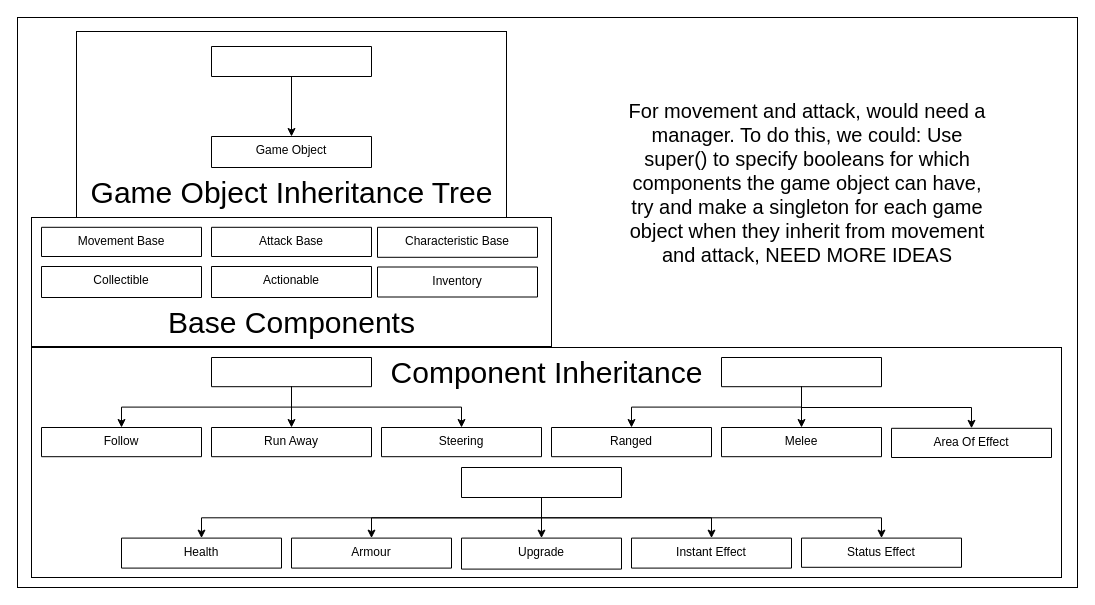
This 1095x605 diagram has some shape labels left out. The shapes that lost their labels are listed below. From the top down, each one's centre as x and y in pixels, then its label:
point 291,61: arcade.Sprite
point 291,371: Movement Base (TBC)
point 801,371: Attack Base (TBC)
point 541,482: Characteristic Base (TBC)
